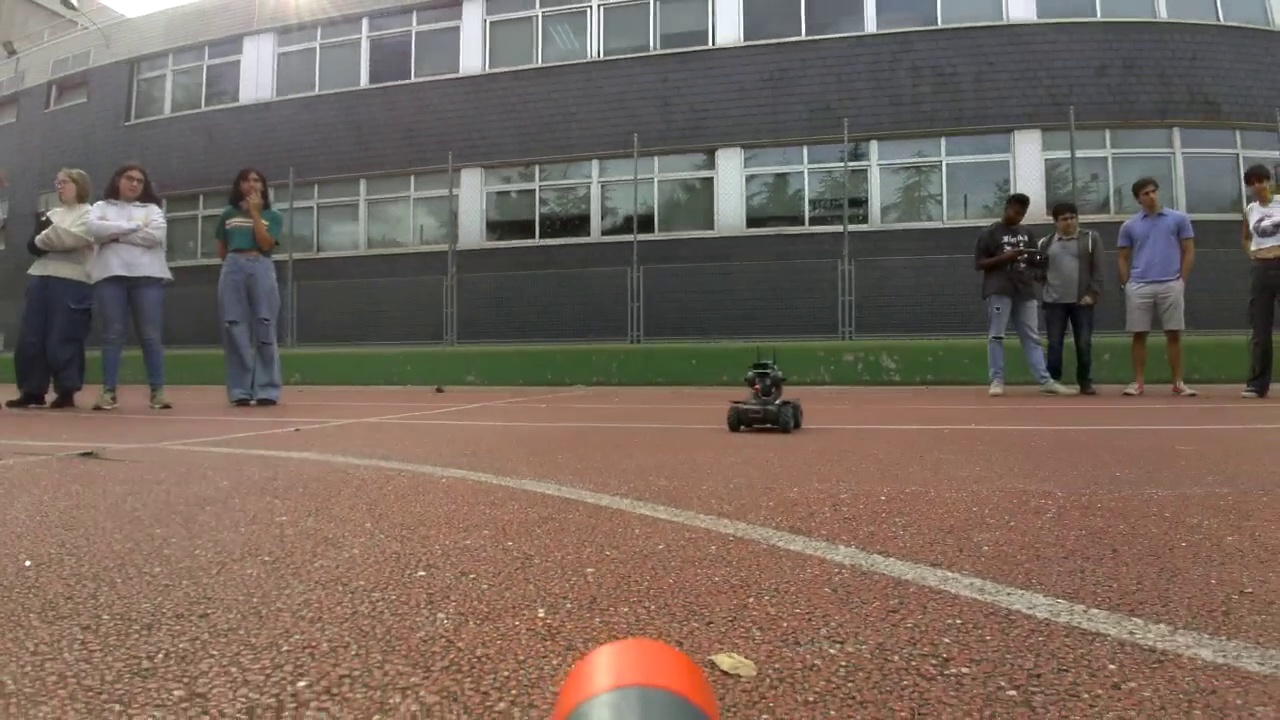robot: (727, 361, 803, 433)
